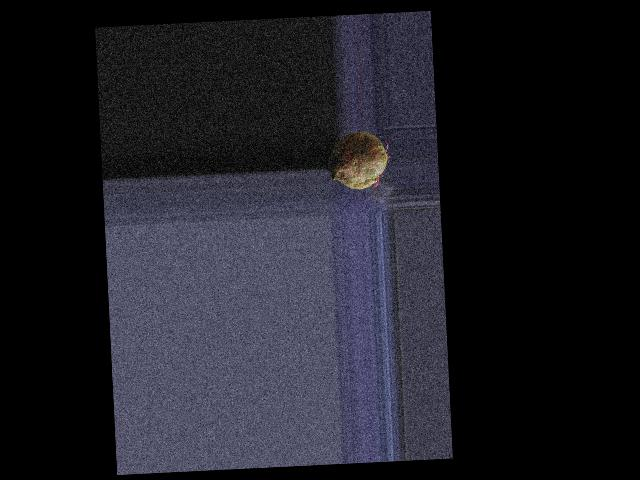beet: (326, 130, 391, 191)
